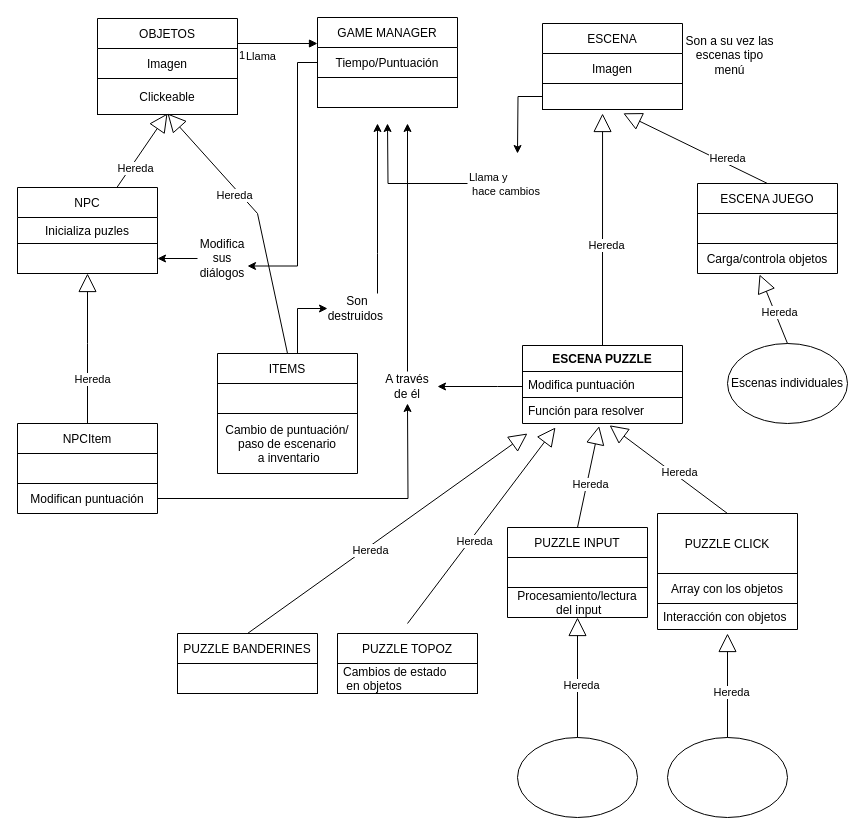
The diagram is 865 pixels wide and 835 high, and some of its shapes have lost their labels. Each missing label, with the centre of its shape:
Botones: point (612, 96)
Control de escenas/misiones: point (387, 92)
Función de arrastrar: point (287, 398)
Interactúan con items: point (87, 468)
Intercambio de posición: point (247, 678)
LLamada a diálogos: point (87, 258)
Puzles individuales: point (577, 777)
Puzles individulares: point (727, 777)
